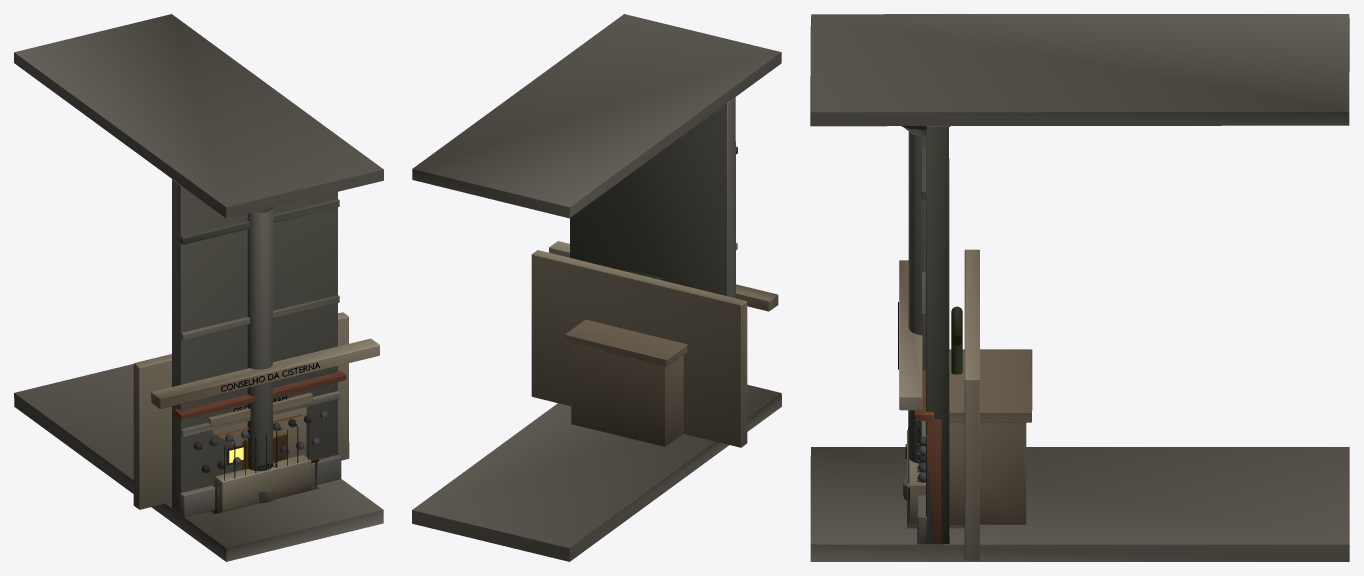
Rendered from cisterna.glb.
3 views of the same model, side by side, from view 1: azimuth 30°, elevation 25°; view 2: azimuth 150°, elevation 25°; view 3: azimuth 270°, elevation 25° (orthographic). The views are drawn at different scales.
Visible parts, largest first — view 1: teto, parede_fundo, piso, sede_conselho, coluna, casa_fundo, muro_subidores; view 2: teto, piso, sede_conselho, parede_fundo, casa_fundo; view 3: teto, piso, casa_fundo, parede_fundo, sede_conselho, coluna, muro_subidores, bomba.
Boxes of the visible parts, x1=… form: teto: x1=14, y1=14, x2=383, y2=218; parede_fundo: x1=172, y1=179, x2=341, y2=517; piso: x1=14, y1=364, x2=383, y2=561; sede_conselho: x1=133, y1=312, x2=379, y2=511; coluna: x1=247, y1=207, x2=275, y2=503; casa_fundo: x1=208, y1=392, x2=312, y2=465; muro_subidores: x1=174, y1=369, x2=346, y2=473; teto: x1=412, y1=14, x2=781, y2=218; piso: x1=412, y1=384, x2=781, y2=561; sede_conselho: x1=531, y1=241, x2=778, y2=447; parede_fundo: x1=570, y1=97, x2=737, y2=298; casa_fundo: x1=565, y1=319, x2=687, y2=446; teto: x1=810, y1=14, x2=1349, y2=126; piso: x1=810, y1=447, x2=1349, y2=561; casa_fundo: x1=920, y1=349, x2=1032, y2=524; parede_fundo: x1=917, y1=126, x2=949, y2=544; sede_conselho: x1=898, y1=249, x2=979, y2=560; coluna: x1=901, y1=126, x2=950, y2=500; muro_subidores: x1=914, y1=370, x2=941, y2=543; bomba: x1=951, y1=306, x2=962, y2=374.
Size of the model in its own units: 8.41 by 12.91 by 14.02.
